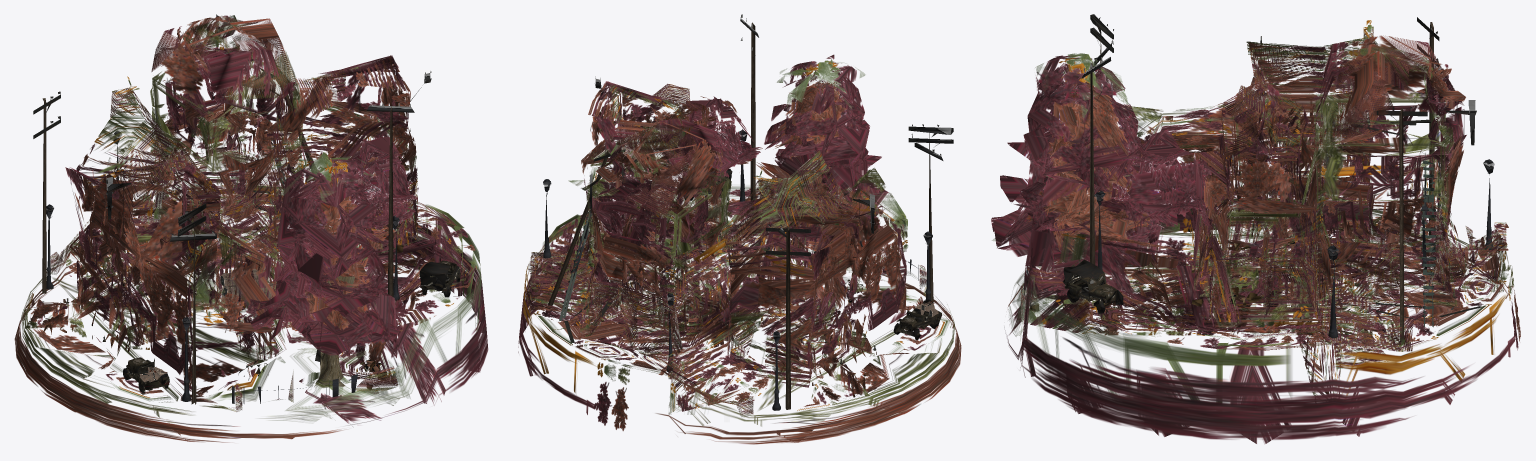
Rendered from carentan_street_scene.glb.
3 renders of one model, left to right at view 1: azimuth 30°, elevation 25°; view 2: azimuth 150°, elevation 25°; view 3: azimuth 270°, elevation 25°, orthographic. The views are drawn at different scales.
Parts seen in each view (by area): view 1: body; view 2: body; view 3: body.
Boxes of the visible parts, left/top/right/bottom form: body: left=14, top=14, right=488, bottom=442; body: left=518, top=14, right=961, bottom=444; body: left=991, top=14, right=1520, bottom=443.
Bounding box in the file's own units: 21.57 × 14.2 × 22.
12 materials, 12 textured.
